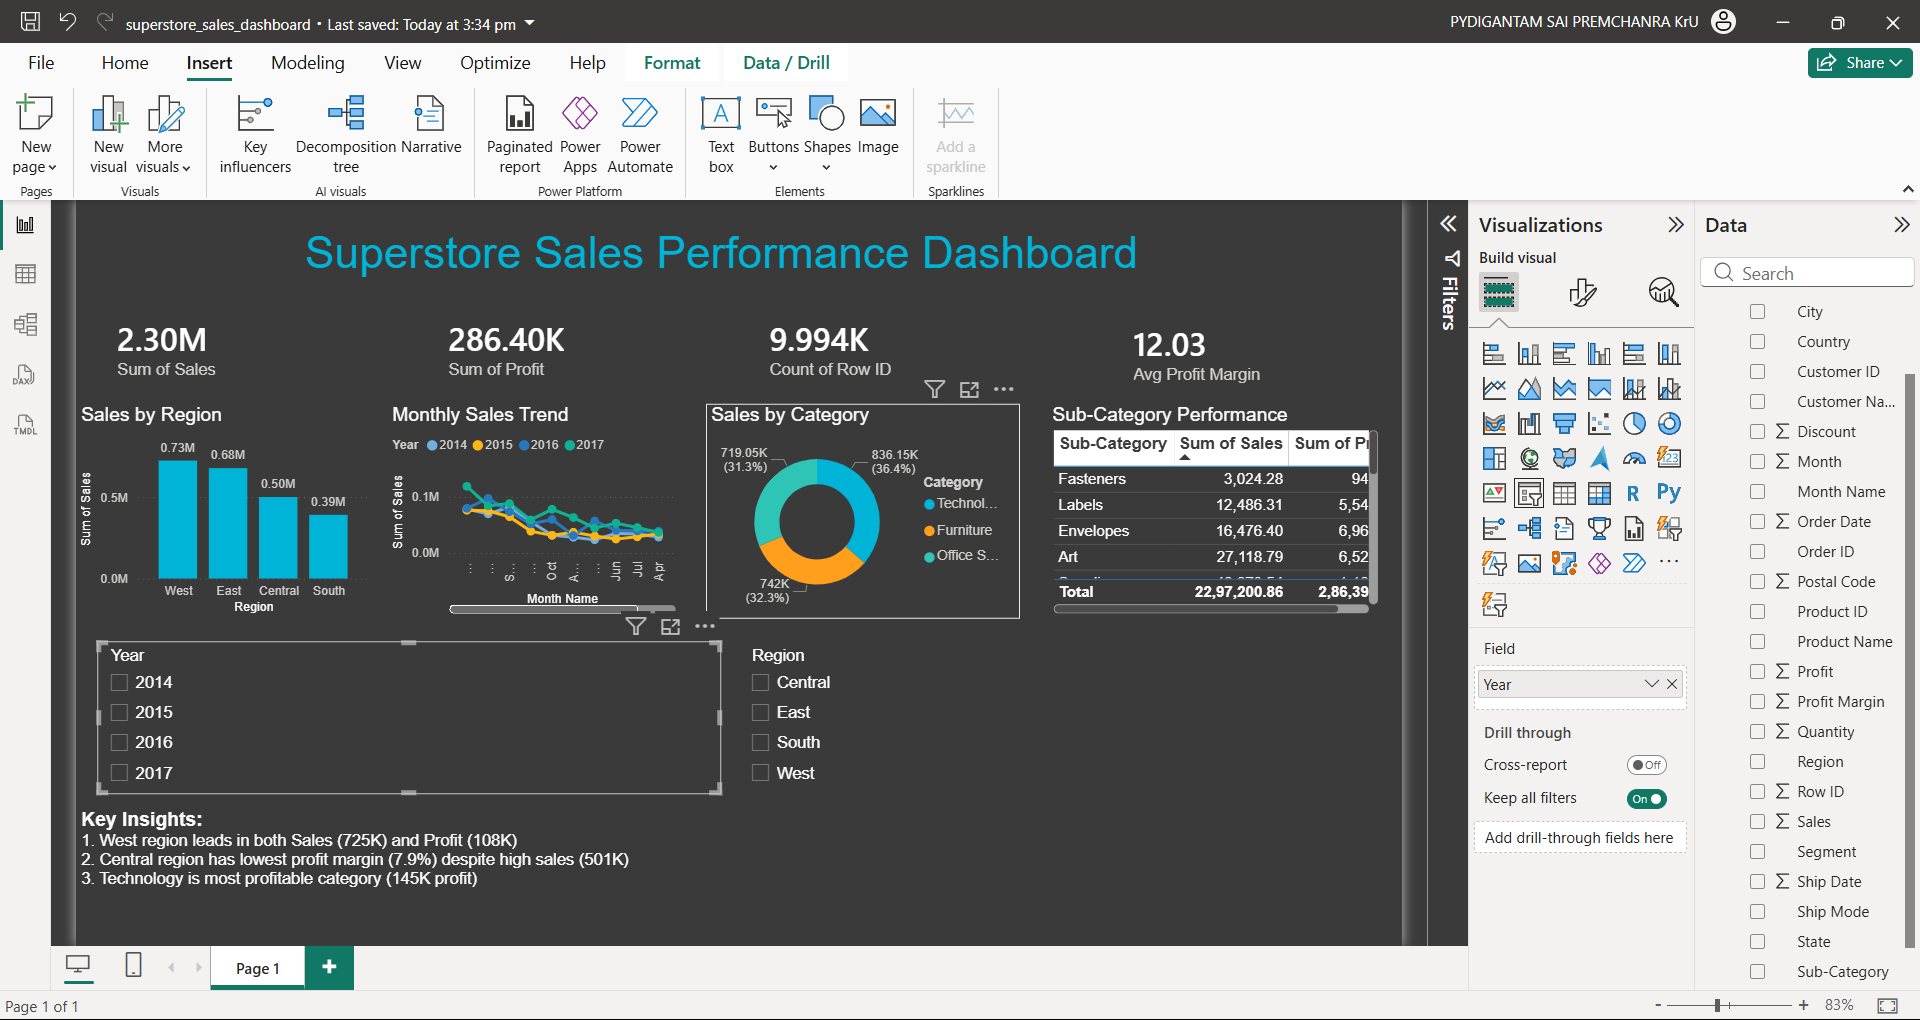

Layout of this report page (visuals, bound fields, positions):
{"tool":"powerbi","page":{"name":"Page 1","canvas":[1280,720],"ordinal":0},"visuals":[{"type":"cardVisual","fields":{"Data":["Sum(Sheet1.Sales)"]},"box":[9.7,96.5,259.4,91.7],"z":0},{"type":"cardVisual","fields":{"Data":["Sheet1.Avg Profit Margin"]},"box":[990.5,96.5,255.8,100.1],"z":1000},{"type":"cardVisual","fields":{"Data":["CountNonNull(Sheet1.Row ID)"]},"box":[639.4,96.5,271.4,91.7],"z":2000},{"type":"cardVisual","fields":{"Data":["Sum(Sheet1.Profit)"]},"box":[329.4,96.5,269,91.7],"z":3000},{"type":"clusteredColumnChart","title":"Sales by Region","fields":{"Category":["Sheet1.Region"],"Y":["Sum(Sheet1.Sales)"]},"box":[0,196.6,288.3,207.5],"z":4000},{"type":"lineChart","title":"Monthly Sales Trend","fields":{"Category":["Sheet1.Month Name"],"Y":["Sum(Sheet1.Sales)"],"Series":["Sheet1.Year"]},"box":[300.4,196.6,283.5,207.5],"z":5000},{"type":"donutChart","title":" Sales by Category","fields":{"Y":["Sum(Sheet1.Sales)"],"Category":["Sheet1.Category"]},"box":[608,196.6,302.8,207.5],"z":6000},{"type":"tableEx","title":"Sub-Category Performance","fields":{"Values":["Sheet1.Sub-Category","Sum(Sheet1.Sales)","Sum(Sheet1.Profit)"]},"box":[937.4,196.6,324.5,207.5],"z":7000},{"type":"slicer","fields":{"Values":["Sheet1.Year"]},"box":[20.5,425.9,602,147.2],"z":8000},{"type":"slicer","fields":{"Values":["Sheet1.Region"]},"box":[639.4,425.9,640.6,147.2],"z":9000},{"type":"textbox","box":[0,22.1,1246.2,74.4],"z":10000},{"type":"textbox","box":[0,582.7,1246.3,126.7],"z":11000}]}

Visuals, with their boxes on the page's 1280x720 design canvas (x1, y1, x2, y2). These are canvas units, not pixel positions in the 1920x1020 screenshot, which may show the page scaled, cropped or inside an application window:
cardVisual - Sum(Sheet1.Sales): box(10, 96, 269, 188)
cardVisual - Sheet1.Avg Profit Margin: box(990, 96, 1246, 197)
cardVisual - CountNonNull(Sheet1.Row ID): box(639, 96, 911, 188)
cardVisual - Sum(Sheet1.Profit): box(329, 96, 598, 188)
"Sales by Region" clusteredColumnChart: box(0, 197, 288, 404)
"Monthly Sales Trend" lineChart: box(300, 197, 584, 404)
" Sales by Category" donutChart: box(608, 197, 911, 404)
"Sub-Category Performance" tableEx: box(937, 197, 1262, 404)
slicer - Sheet1.Year: box(20, 426, 622, 573)
slicer - Sheet1.Region: box(639, 426, 1280, 573)
textbox: box(0, 22, 1246, 96)
textbox: box(0, 583, 1246, 709)
